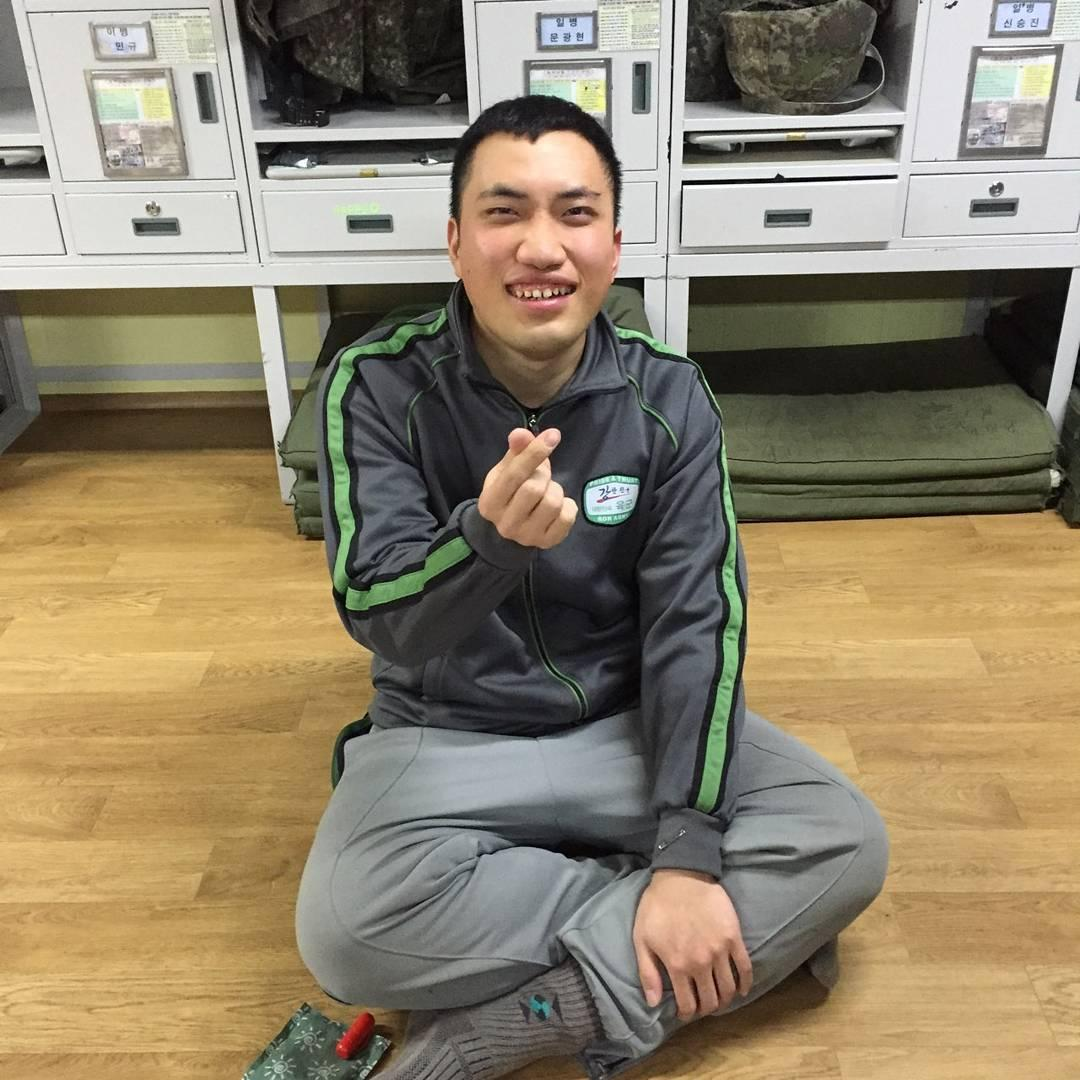heart gesture: (503, 422, 564, 478)
